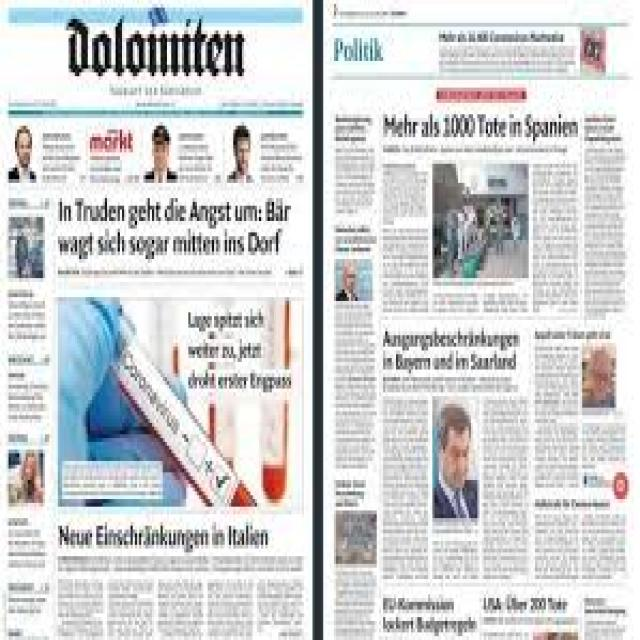paper: (0, 0, 629, 636)
